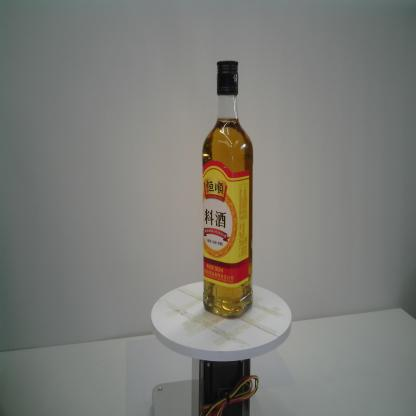Seasoner: (199, 58, 256, 320)
